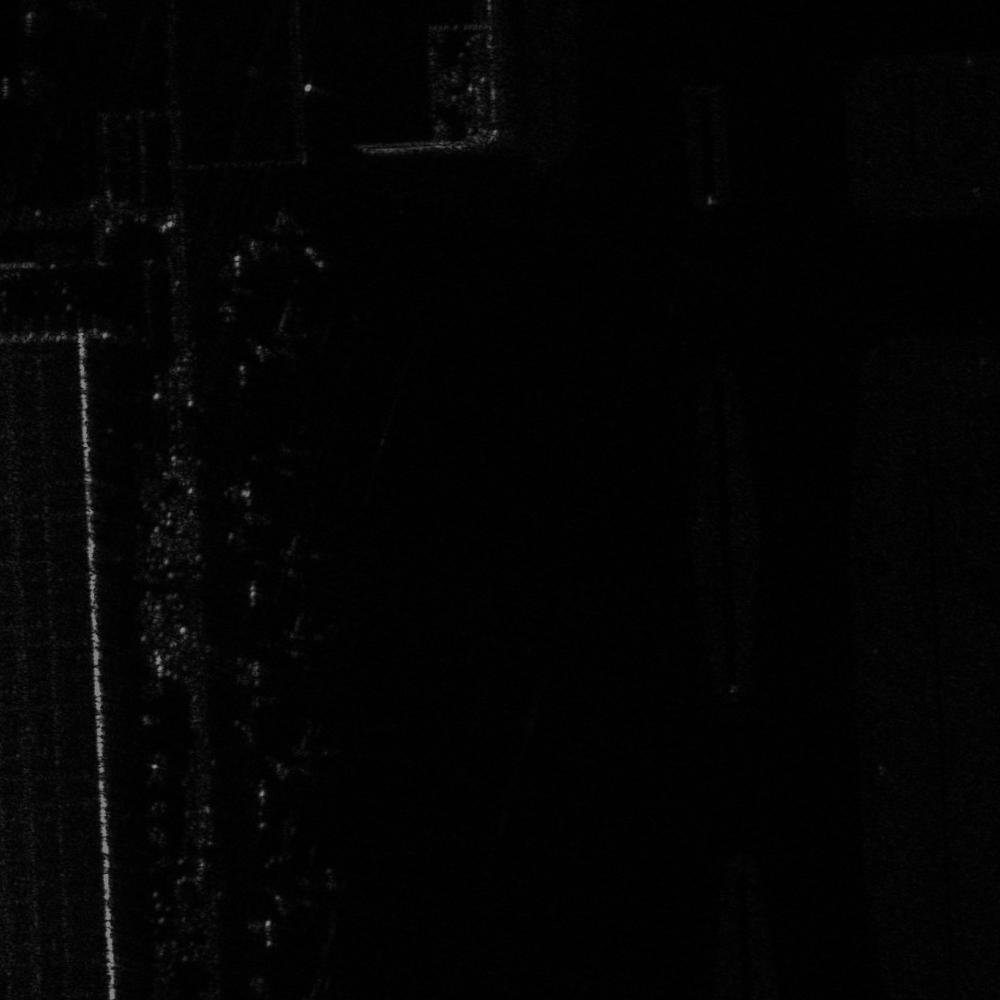A220: (273, 846, 353, 918), (266, 720, 342, 788)
A320/321: (255, 605, 335, 667), (251, 294, 319, 366), (252, 526, 327, 585)
